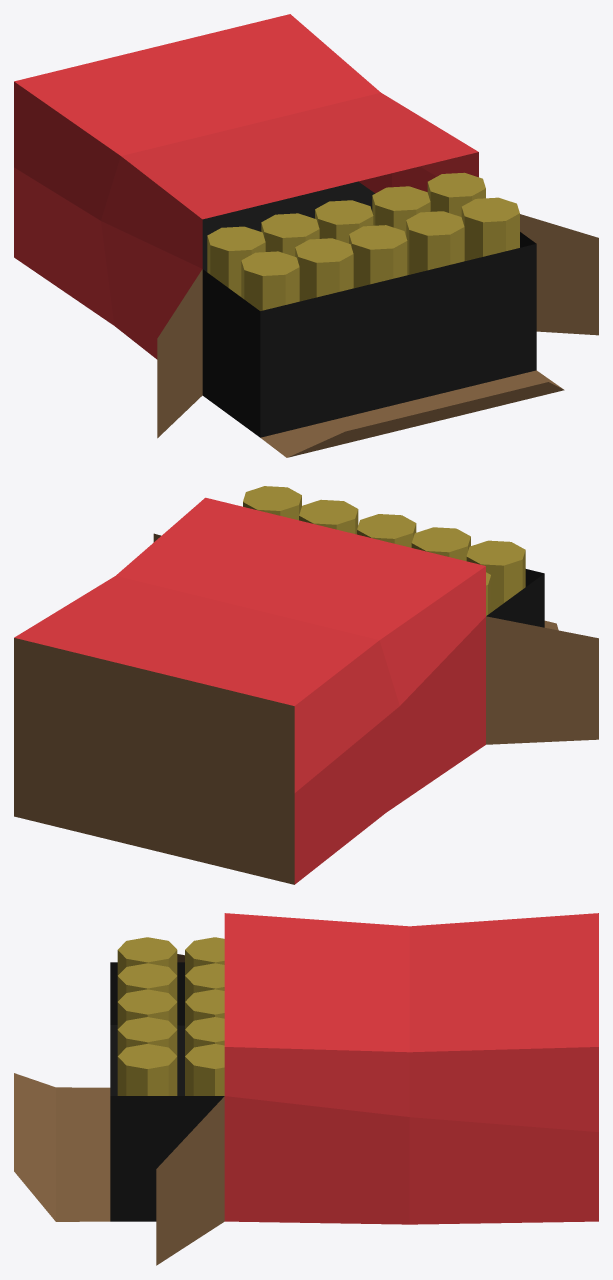
The picture shows the model from 3 angles, top to bottom: view 1: azimuth 30°, elevation 25°; view 2: azimuth 150°, elevation 25°; view 3: azimuth 270°, elevation 25°; orthographic projection. The views are drawn at different scales.
Parts seen in each view (by area): view 1: Cube; view 2: Cube; view 3: Cube.
Boxes of the visible parts, x1,y1,x2,y2 form: Cube: (14, 14, 598, 457); Cube: (14, 486, 598, 884); Cube: (14, 913, 598, 1265).
Bounding box in the file's own units: 0.8046 × 0.3125 × 0.9333.
